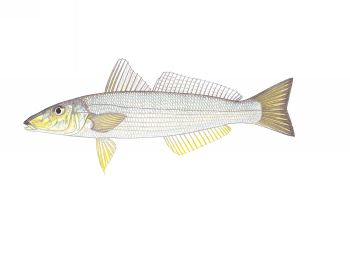kiss: (22, 51, 297, 176)
